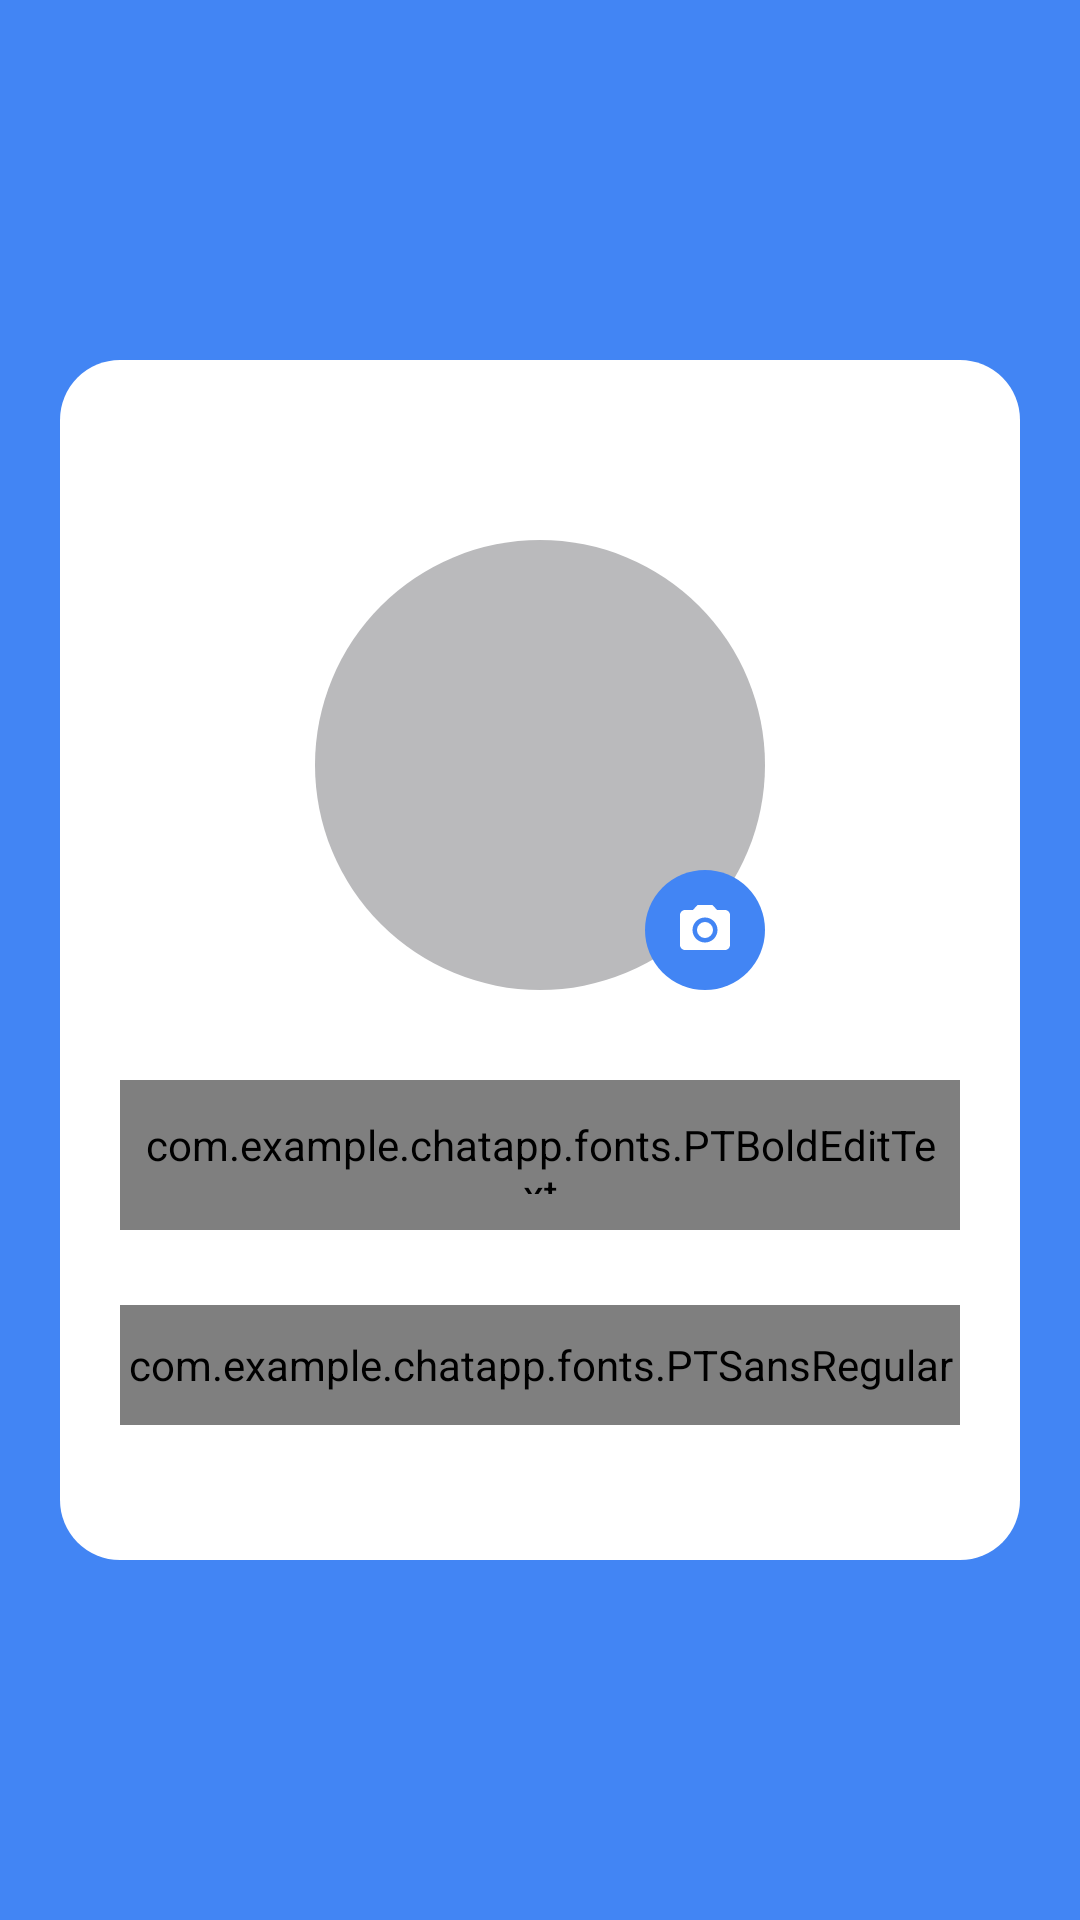

Named icons in this screenshot (1080x1920) and their bounding boxes, {"x1": x1, "y1": y1, "x2": x2, "y2": y2}:
camera: {"x1": 645, "y1": 870, "x2": 765, "y2": 990}
